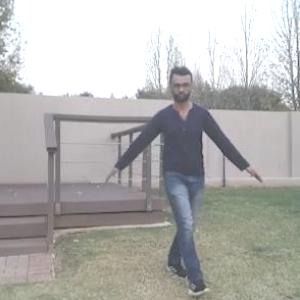land: (118, 65, 243, 280)
